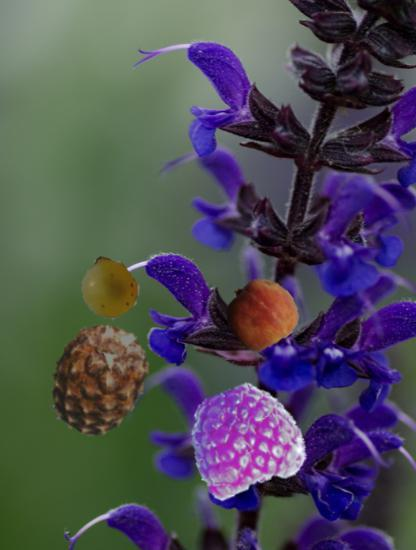Grape: (77, 257, 140, 320)
Peach: (225, 278, 296, 349)
Pineapple: (40, 321, 157, 438)
Raspberry: (189, 382, 303, 496)
